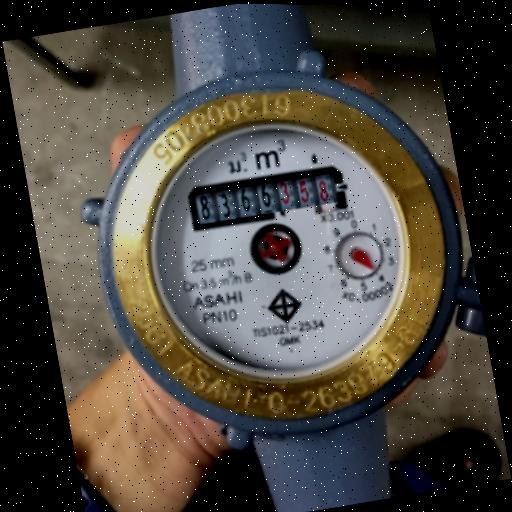3: (214, 190, 235, 220), (275, 180, 295, 210)
5: (295, 176, 314, 208)
6: (256, 181, 275, 214), (235, 185, 255, 216)
8: (194, 192, 215, 224), (314, 174, 334, 204)
border_water_meter_number: (185, 159, 349, 236)
